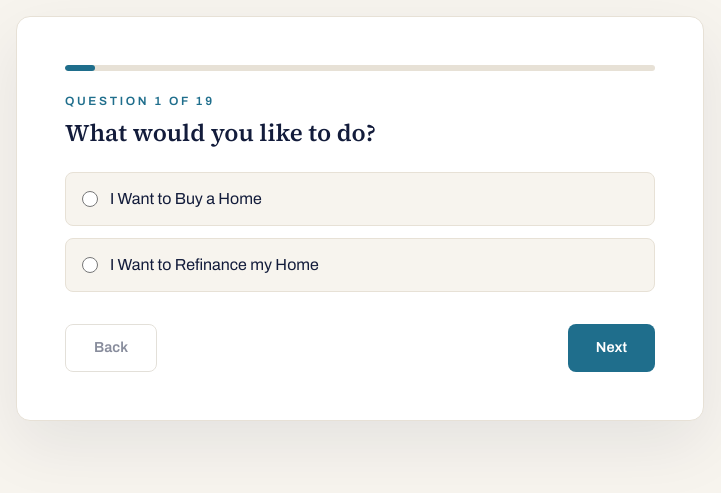
Scenario: AssessmentQuizClient navigation › stops on a missing answer with a message instead of moving on
Click the button "Next" at (611, 348), box [568,324,655,372]
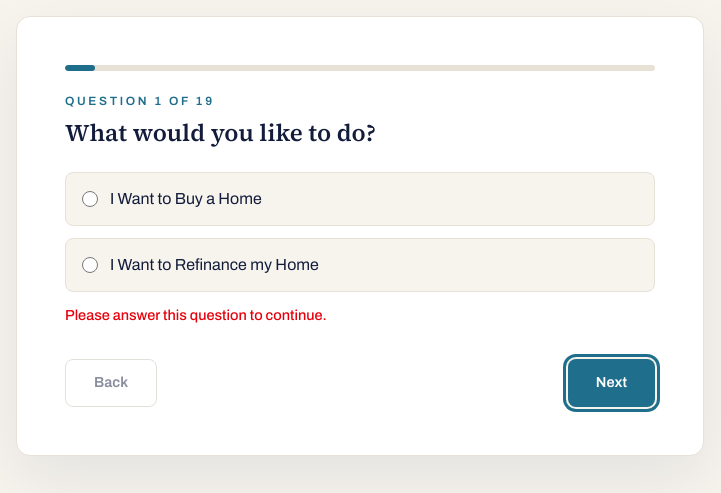
Expected: the heading "What would you like to do?" is shown, [65,116,376,149]
Expected: the message reads "Please answer this question to continue.", [65,307,327,323]
